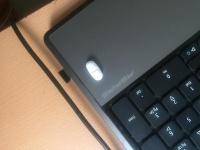Centik Buskopan: (85, 59, 104, 81)
